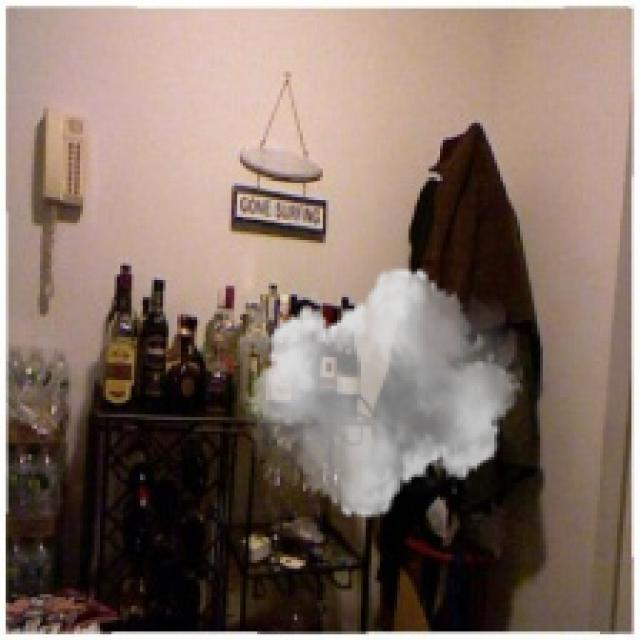smoke: (246, 257, 523, 529)
